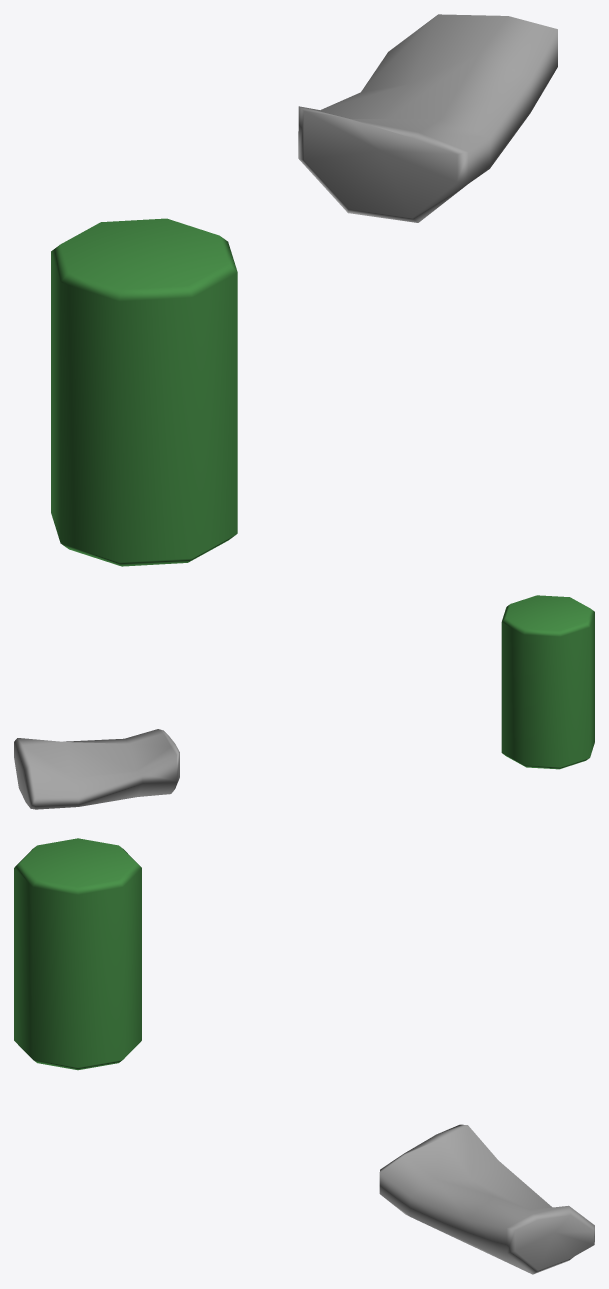
The model's file is FloorTrash_02.fbx.
The picture shows the model from 3 angles, top to bottom: view 1: azimuth 30°, elevation 25°; view 2: azimuth 150°, elevation 25°; view 3: azimuth 270°, elevation 25°; orthographic projection. The views are drawn at different scales.
Parts seen in each view (by area): view 1: FloorTrash_02; view 2: FloorTrash_02; view 3: FloorTrash_02.
Part boxes in pixels (x1,y1,x2,y2): FloorTrash_02: [51, 14, 557, 566]; FloorTrash_02: [14, 595, 594, 809]; FloorTrash_02: [14, 838, 594, 1274].
Size of the model in its own units: 340 by 110 by 315.
